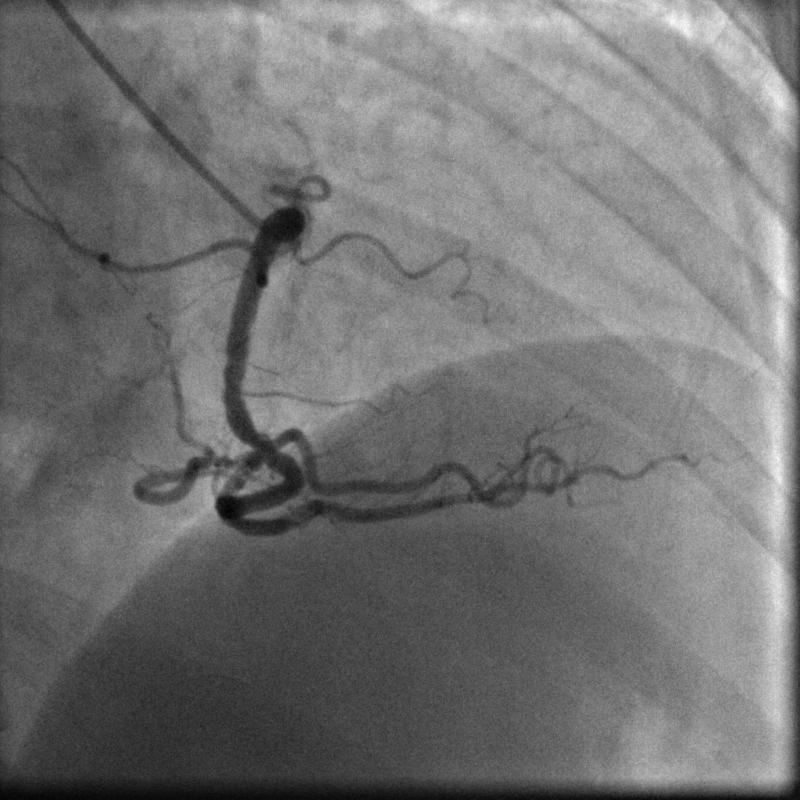Stenosis: (234, 422, 283, 457)
